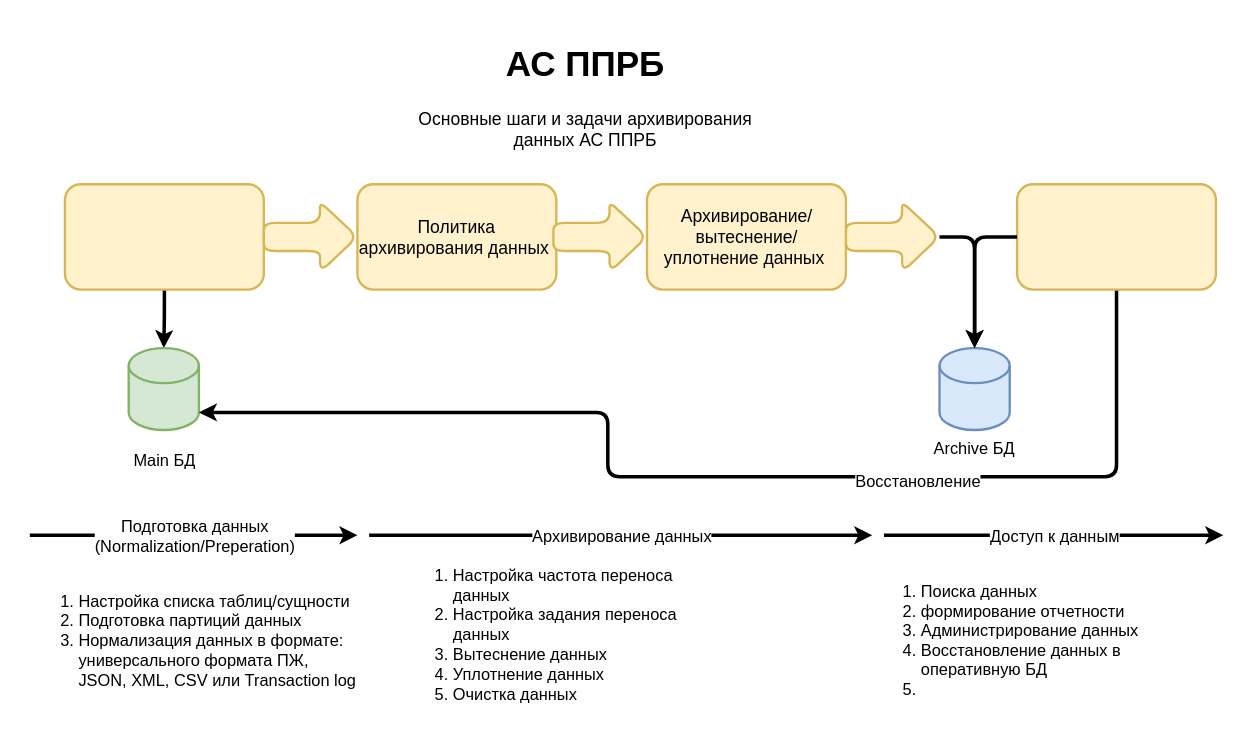
Image size: 1254x742. Some labels were removed from this diagram. The centre of each missing label's shape, as x and y in pixels:
"Доступ к данных (Readonly acess/поиск)" goes at point 1116,236.
"ФП/Модуль прикладных сервисов ППРБ" goes at point 163,236.
